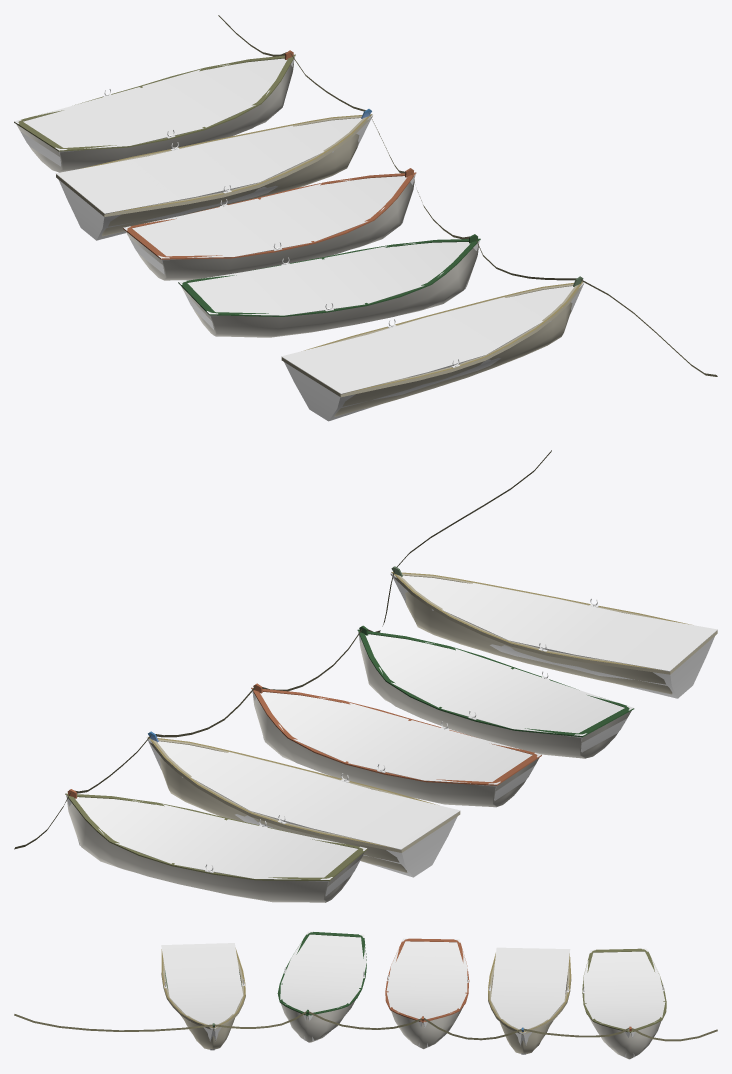
The model's file is eca_fv_linked_boats.DAE.
The picture shows the model from 3 angles, top to bottom: view 1: azimuth 30°, elevation 25°; view 2: azimuth 150°, elevation 25°; view 3: azimuth 270°, elevation 25°; orthographic projection. The views are drawn at different scales.
Parts seen in each view (by area): view 1: Colmesh-1, eca_fv_linked_boats_b200; view 2: Colmesh-1, eca_fv_linked_boats_b200; view 3: Colmesh-1, eca_fv_linked_boats_b200.
Part boxes in pixels (x1=…): Colmesh-1: x1=21, y1=56, x2=584, y2=421; eca_fv_linked_boats_b200: x1=14, y1=15, x2=717, y2=416; Colmesh-1: x1=66, y1=571, x2=717, y2=902; eca_fv_linked_boats_b200: x1=14, y1=450, x2=717, y2=902; Colmesh-1: x1=161, y1=934, x2=665, y2=1057; eca_fv_linked_boats_b200: x1=14, y1=931, x2=717, y2=1059.
Bounding box in the file's own units: 6.98 × 19.27 × 1.54.
